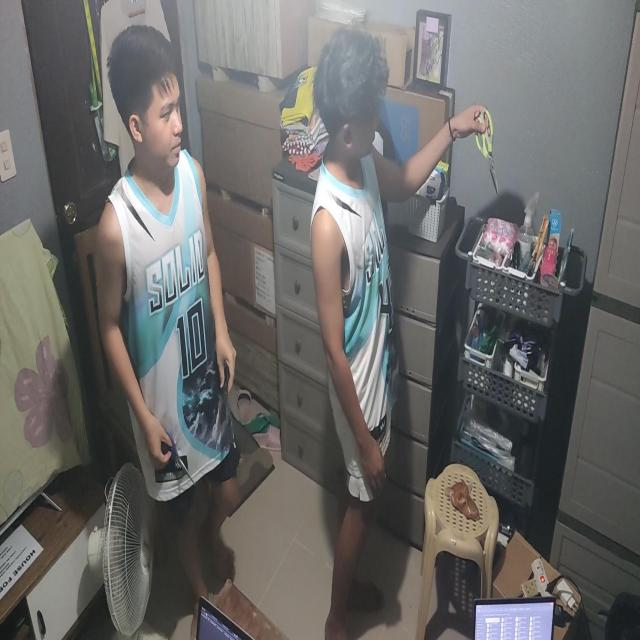scissor: (474, 106, 499, 197), (158, 432, 197, 485)
